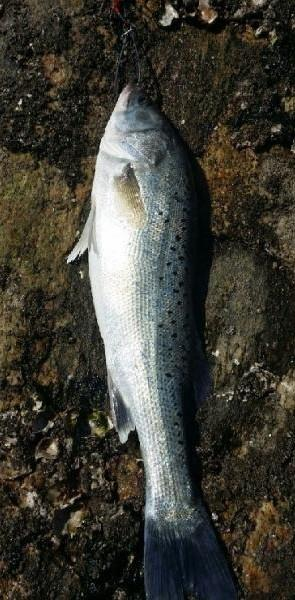fish: (67, 79, 237, 599)
